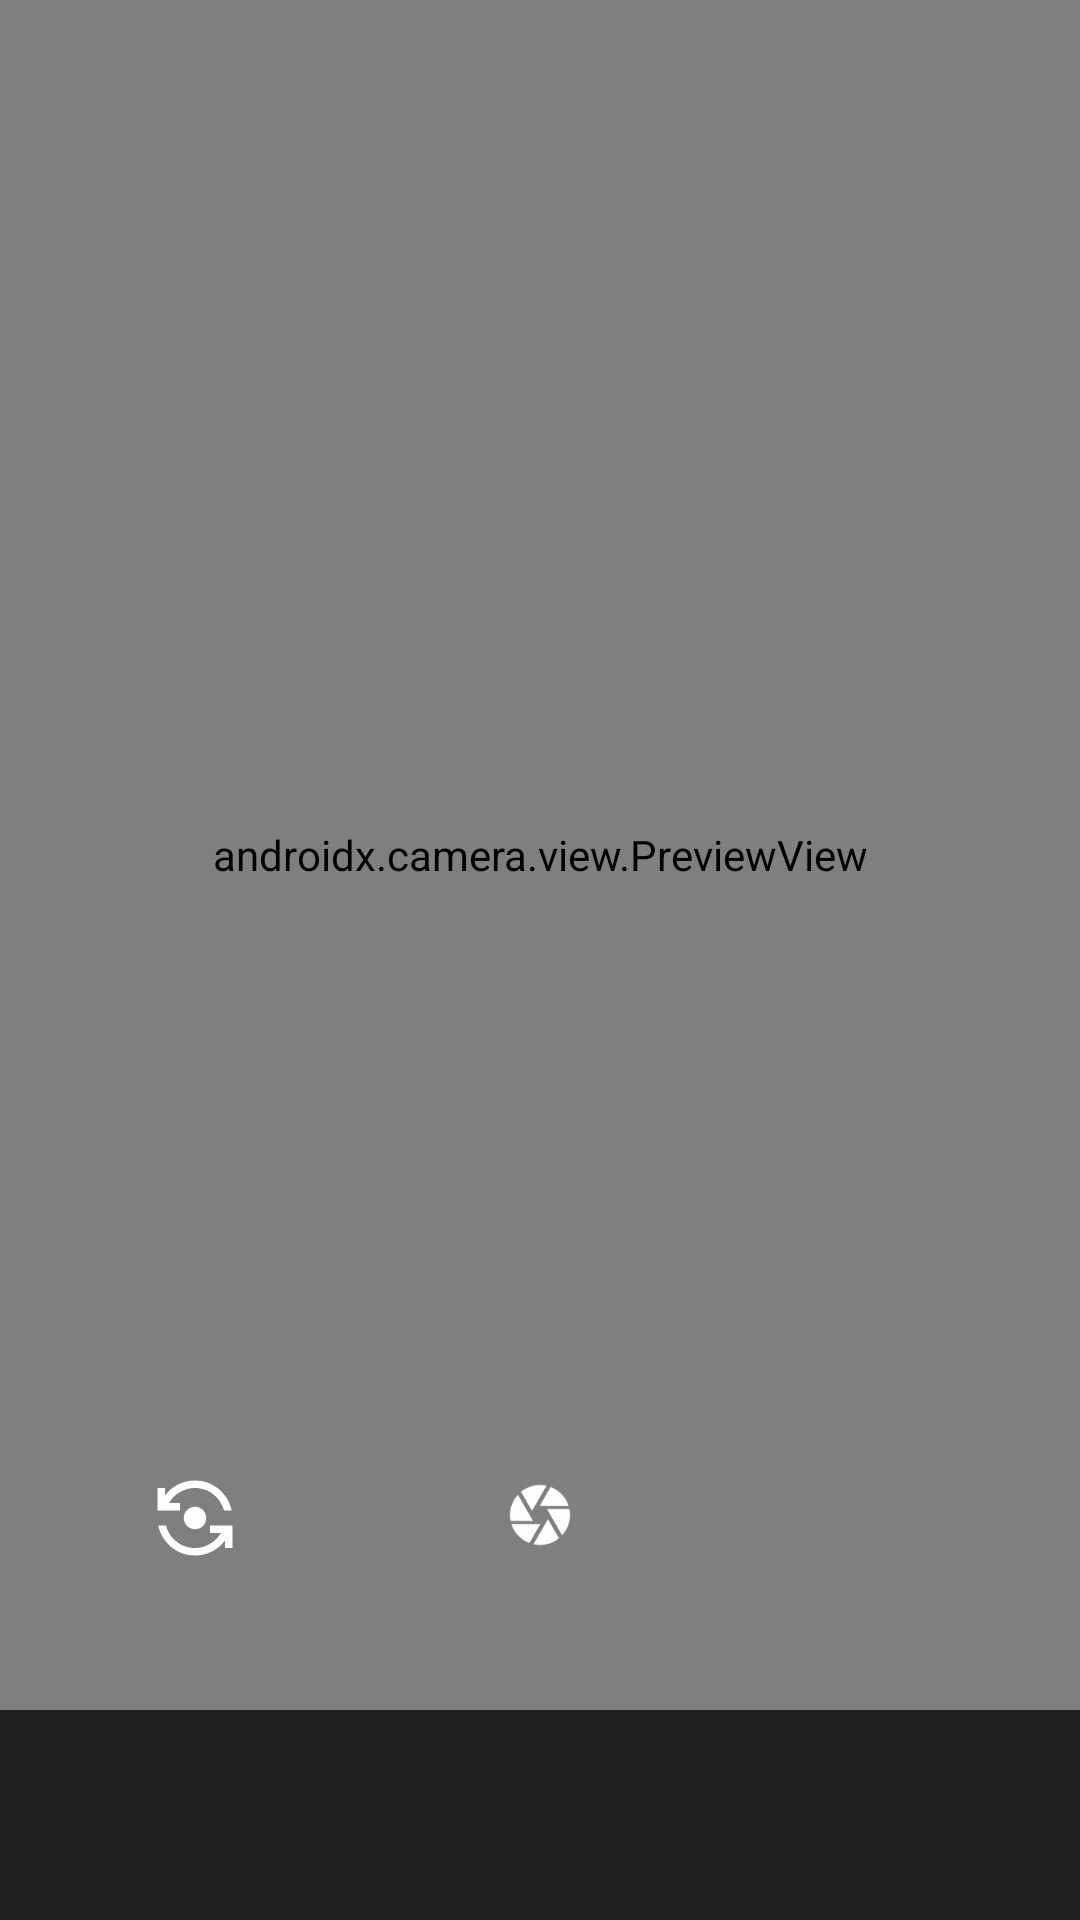

Locate icon controls on the screen. Image size 1080 × 1920, boxes as BBox(x1, y1, x2, y2).
flip camera android: BBox(157, 1480, 233, 1556)
